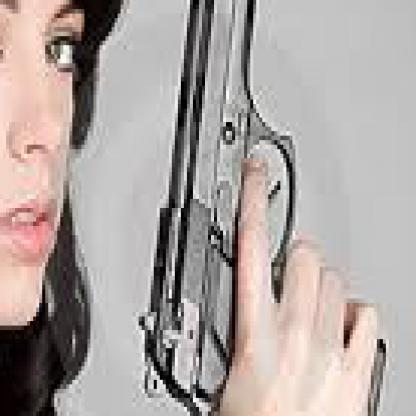gun: (132, 0, 386, 412)
